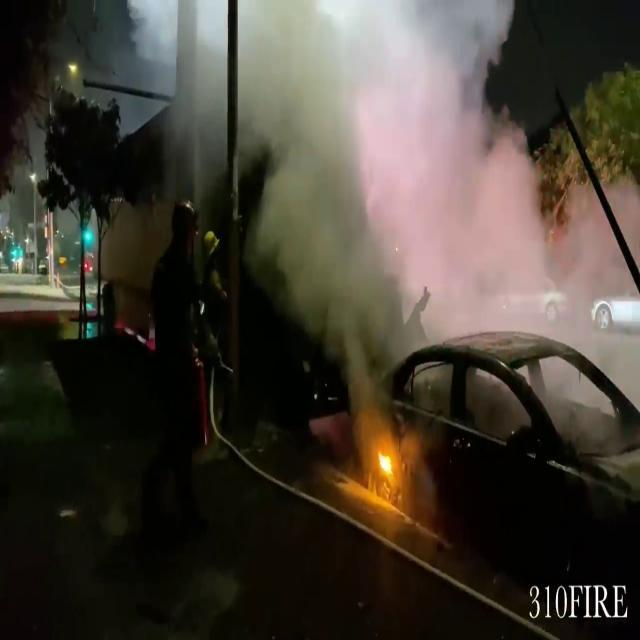Fire: (368, 432, 404, 495)
Smoke: (236, 0, 580, 349)
